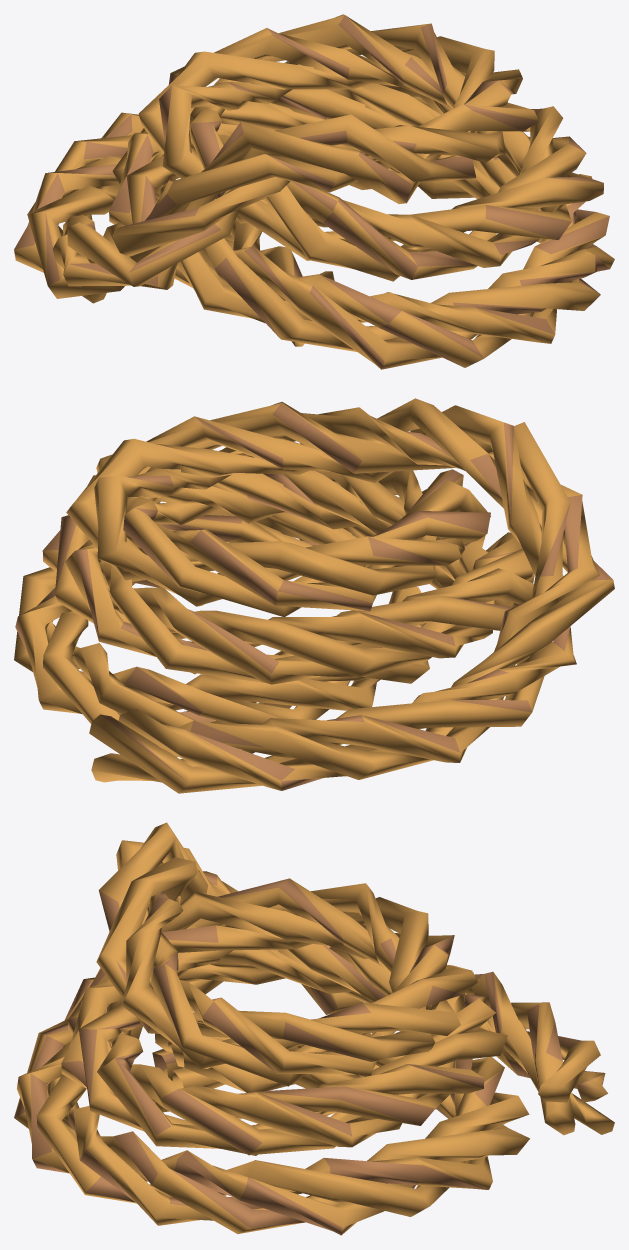
File: rope.fbx
The picture shows the model from 3 angles, top to bottom: view 1: azimuth 30°, elevation 25°; view 2: azimuth 150°, elevation 25°; view 3: azimuth 270°, elevation 25°; orthographic projection. The views are drawn at different scales.
Parts seen in each view (by area): view 1: rope; view 2: rope; view 3: rope.
Part boxes in pixels (left/top/right/bottom): rope: left=14, top=14, right=614, bottom=369; rope: left=14, top=398, right=614, bottom=793; rope: left=14, top=822, right=614, bottom=1235.
Size of the model in its own units: 95.95 by 42.4 by 98.08.
